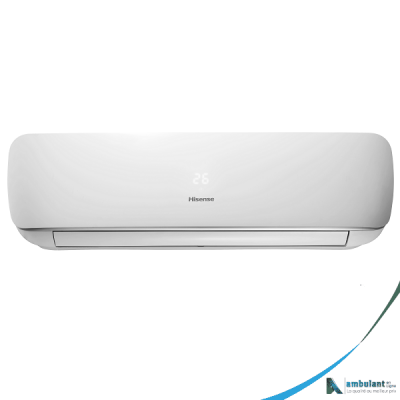ac: (3, 128, 393, 259)
